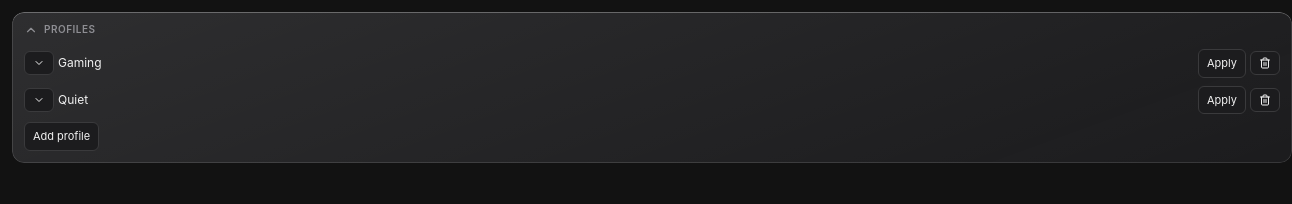
Test case: shows the store error when a save is rejected
Click the button named "Delete Quiet" at (1265, 100), box [1250,88,1280,112]
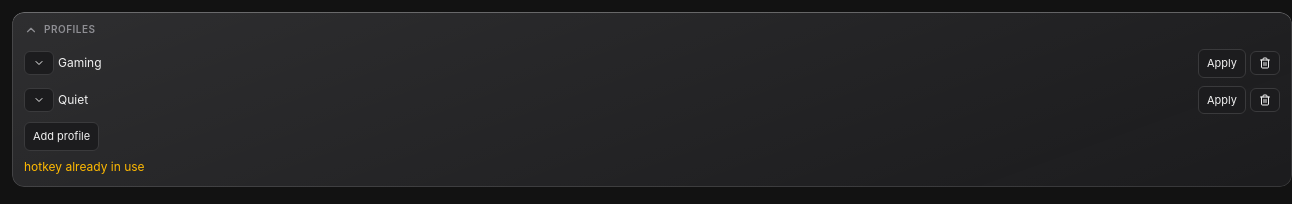
Now the message reads "hotkey already in use", box [24,158,145,174]
